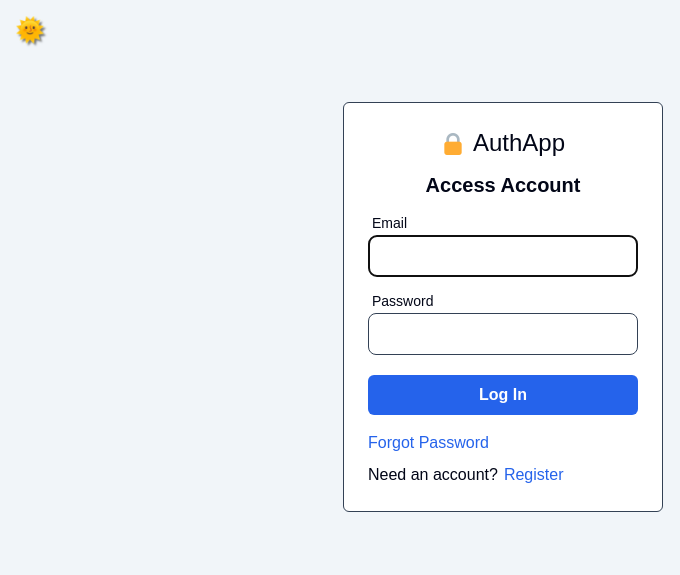
App › allows navigation to all auth routes if logged out
Expected: the heading "Access Account" is shown, [426, 174, 580, 196]
What coordinates should you click on to do the following:
click the link "Forgot Password"
I would click on:
 (428, 442)
Its box is [368, 434, 489, 451].
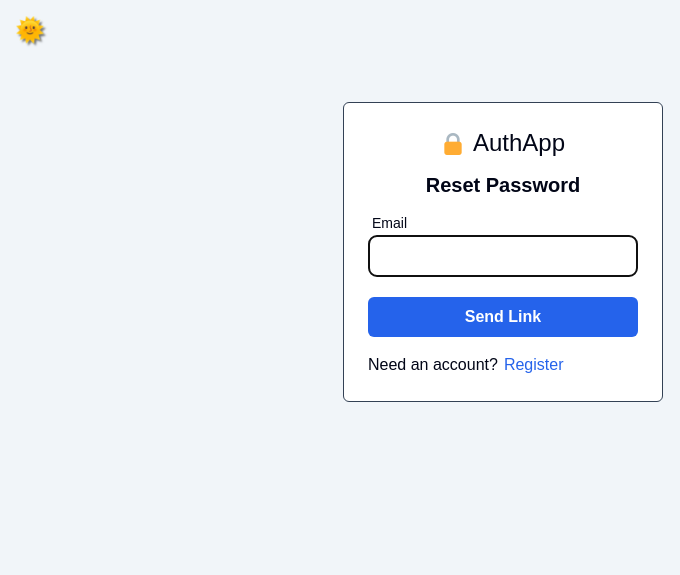
Expected: the heading "Reset Password" is shown, [426, 174, 580, 196]
What coordinates should you click on to do the following:
click the link "Register"
I would click on:
 (534, 365)
Its box is [504, 353, 564, 377].
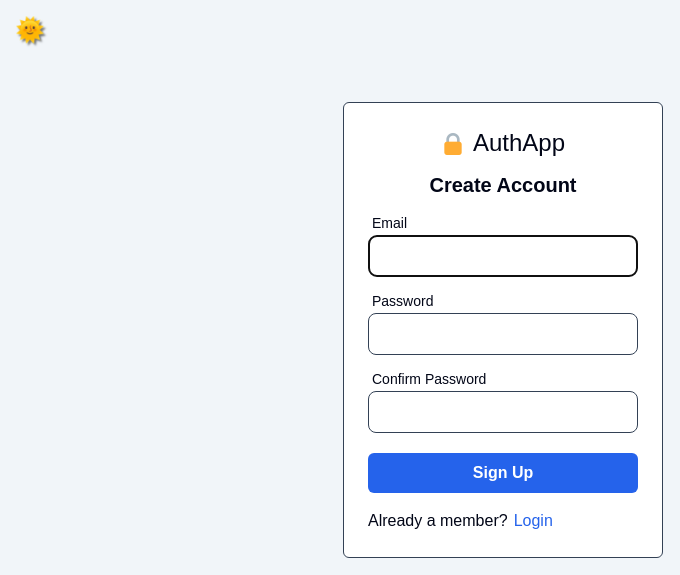
Expected: the heading "Create Account" is shown, [430, 174, 577, 196]
What coordinates should you click on to do the following:
click the link "Login"
I would click on:
 (533, 521)
Its box is [514, 509, 553, 533].
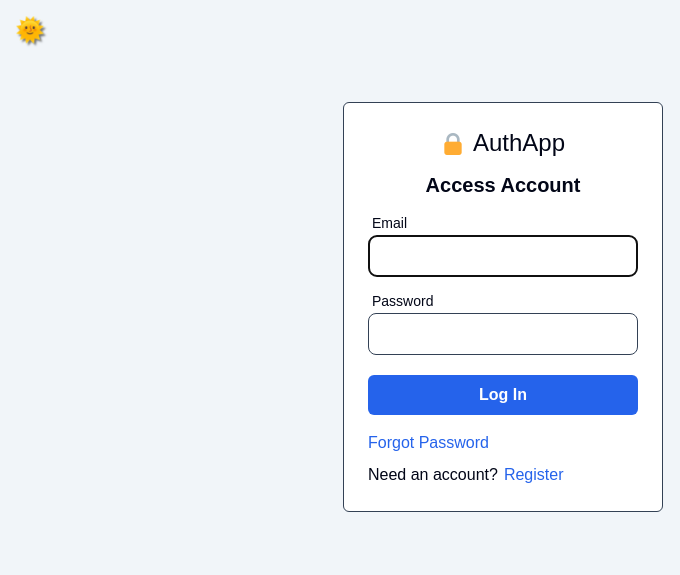
Expected: the heading "Access Account" is shown, [426, 174, 580, 196]
What coordinates should you click on to do the following:
click the link "Register"
I would click on:
 (534, 475)
Its box is [504, 463, 564, 487].
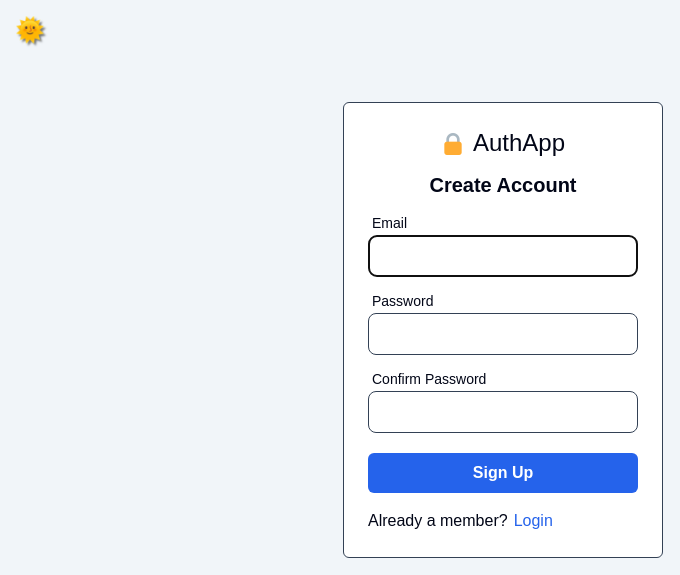
Expected: the heading "Create Account" is shown, [430, 174, 577, 196]
